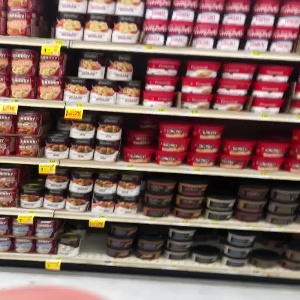void: (81, 217, 107, 265)
